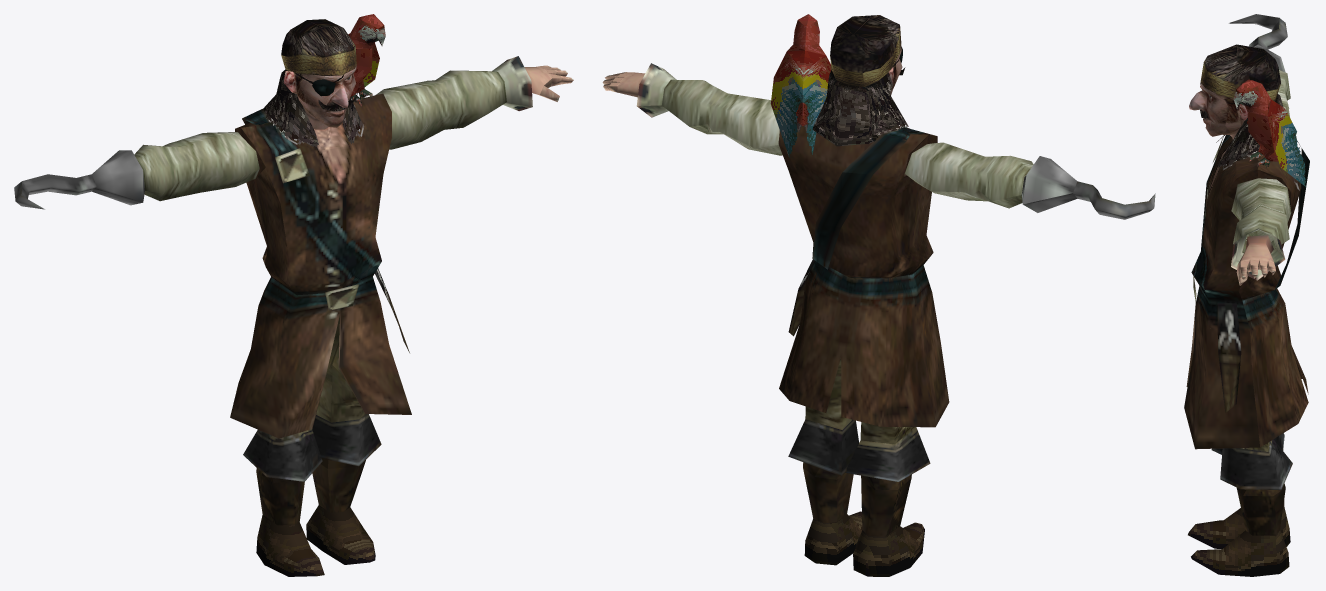
Rendered from Piratafbx.fbx.
3 views of the same model, side by side, from view 1: azimuth 30°, elevation 25°; view 2: azimuth 150°, elevation 25°; view 3: azimuth 270°, elevation 25° (orthographic). The views are drawn at different scales.
Visible parts, largest first — view 1: THUG 2 - Pirate; view 2: THUG 2 - Pirate; view 3: THUG 2 - Pirate.
Boxes of the visible parts, x1,y1,x2,y2 form: THUG 2 - Pirate: (14, 14, 573, 576); THUG 2 - Pirate: (602, 14, 1155, 576); THUG 2 - Pirate: (1184, 14, 1309, 576).
Size of the model in its own units: 8039 by 7426 by 1703.
7 materials, 7 textured.
